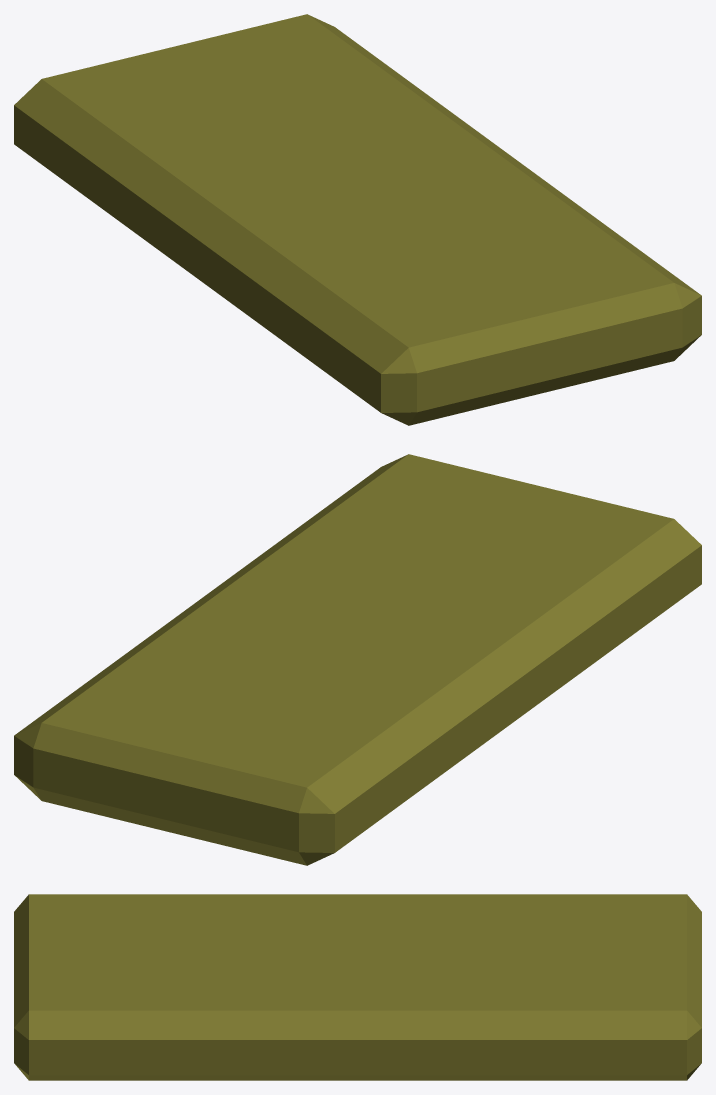
The model's file is Bedroom3_mattress.fbx.
3 views of the same model, one above another, from view 1: azimuth 30°, elevation 25°; view 2: azimuth 150°, elevation 25°; view 3: azimuth 270°, elevation 25° (orthographic). The views are drawn at different scales.
Visible parts, largest first — view 1: Bedroom3_mattress; view 2: Bedroom3_mattress; view 3: Bedroom3_mattress.
Part boxes in pixels (x1,y1,x2,y2): Bedroom3_mattress: [14, 14, 701, 425]; Bedroom3_mattress: [14, 454, 701, 865]; Bedroom3_mattress: [14, 894, 701, 1080].
Bounding box in the file's own units: 135 × 31.43 × 280.
